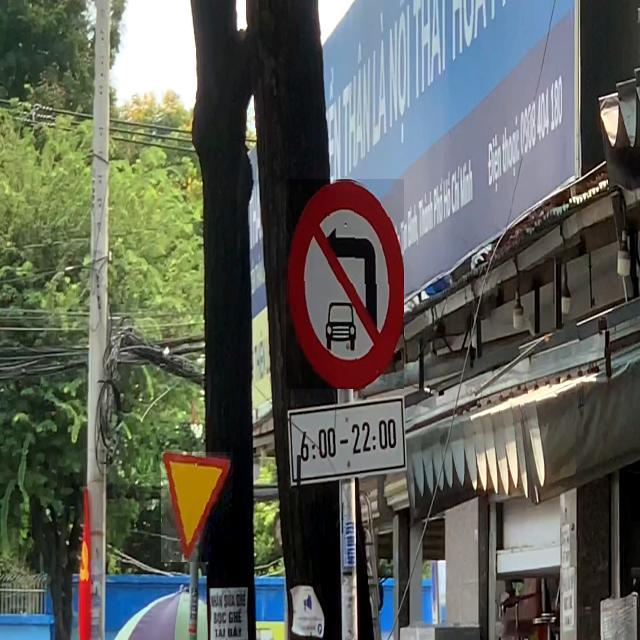P-103c: (286, 179, 404, 389)
W-208: (161, 452, 233, 562)
